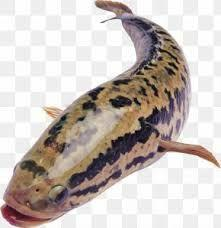Snakehead: (0, 1, 221, 228)
